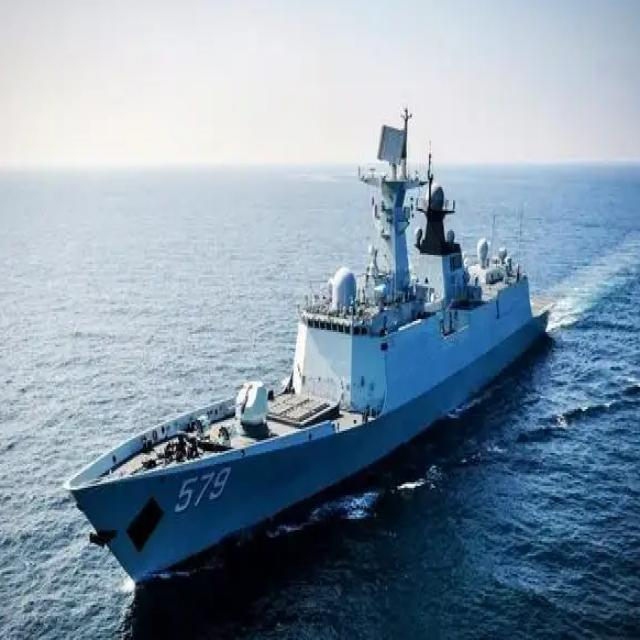navalvessels: (70, 93, 570, 588)
